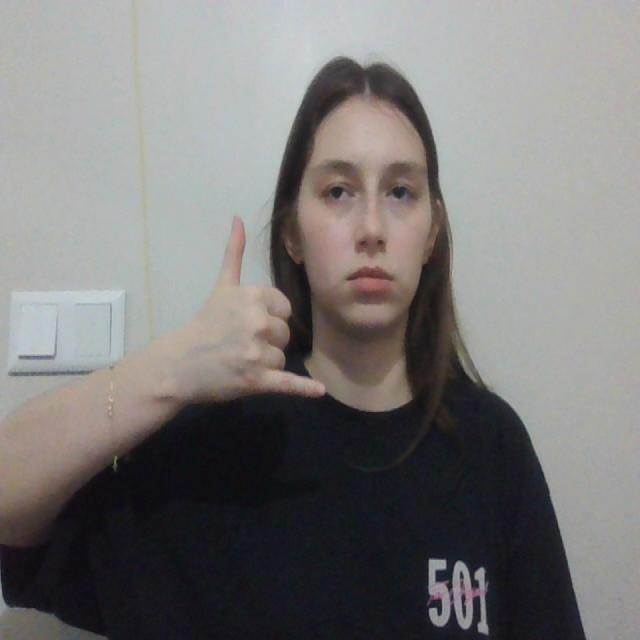Telefon: (202, 199, 327, 411)
